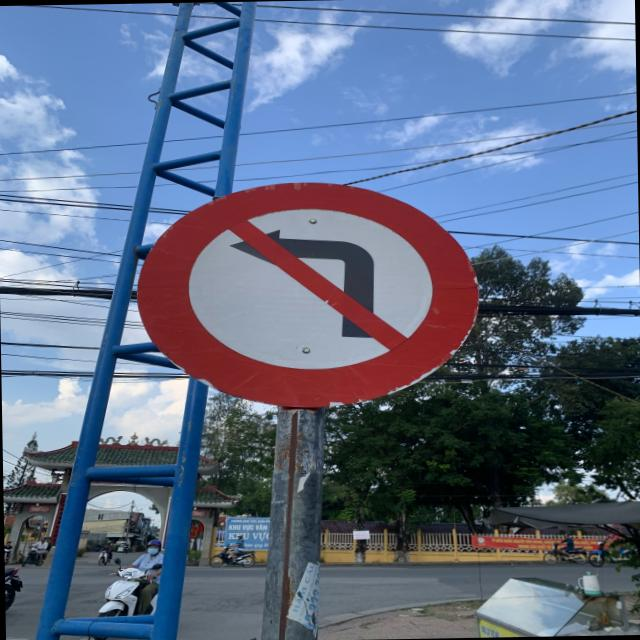Cam_Re_Trai: (131, 179, 480, 409)
